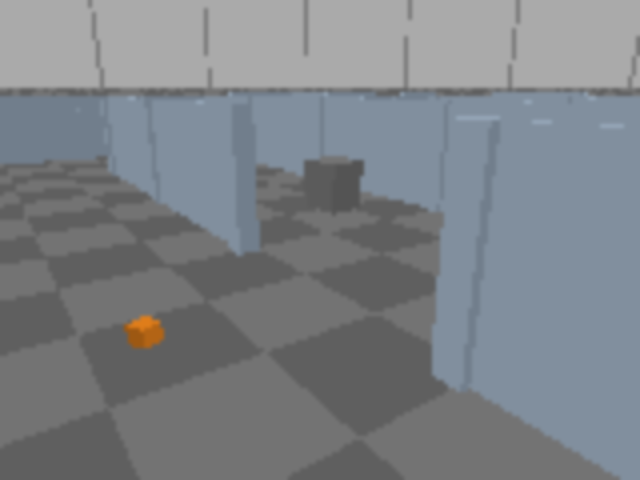puck: (125, 315, 163, 350)
